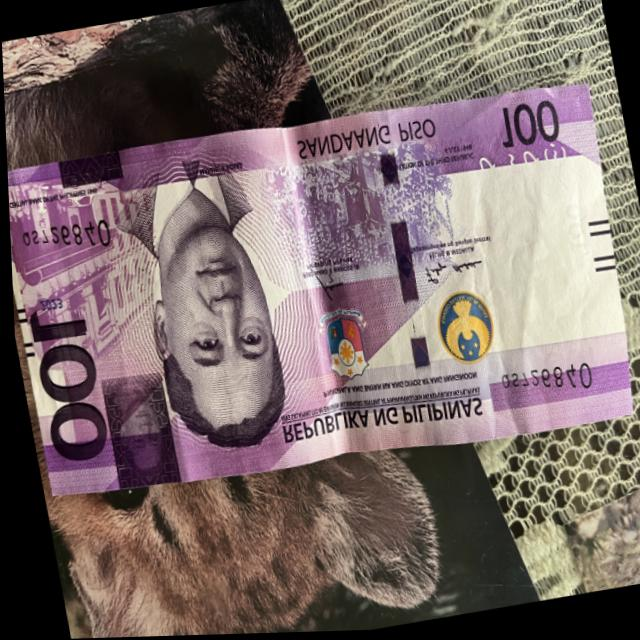concealed_value: (93, 372, 179, 492)
security_thread: (364, 111, 446, 457)
see_through_mark: (463, 141, 576, 199)
serial_number: (488, 355, 598, 418), (12, 210, 119, 268)
value: (23, 296, 106, 471)
watermark: (453, 161, 618, 381)
